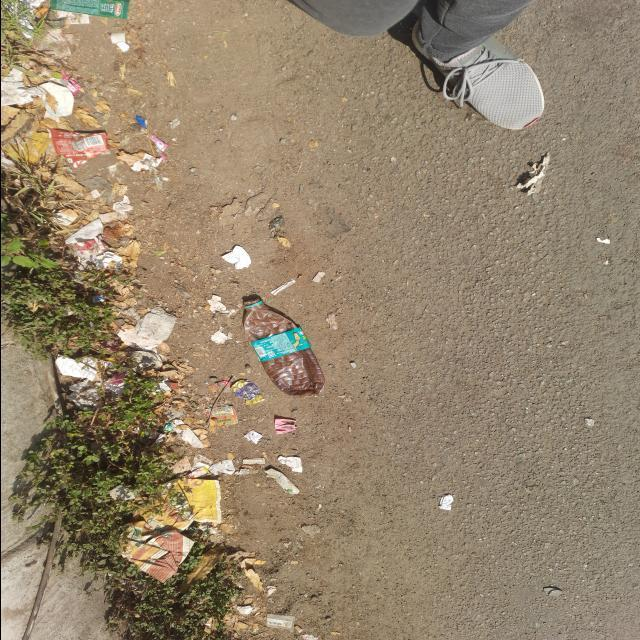Background: (2, 0, 640, 640)
Plastic_bottle: (243, 300, 323, 398)
Plastic_wraper: (48, 129, 107, 168), (50, 0, 128, 19), (230, 379, 263, 405), (207, 405, 237, 431), (72, 236, 105, 256), (265, 614, 293, 631), (148, 134, 167, 152), (593, 380, 602, 382)
